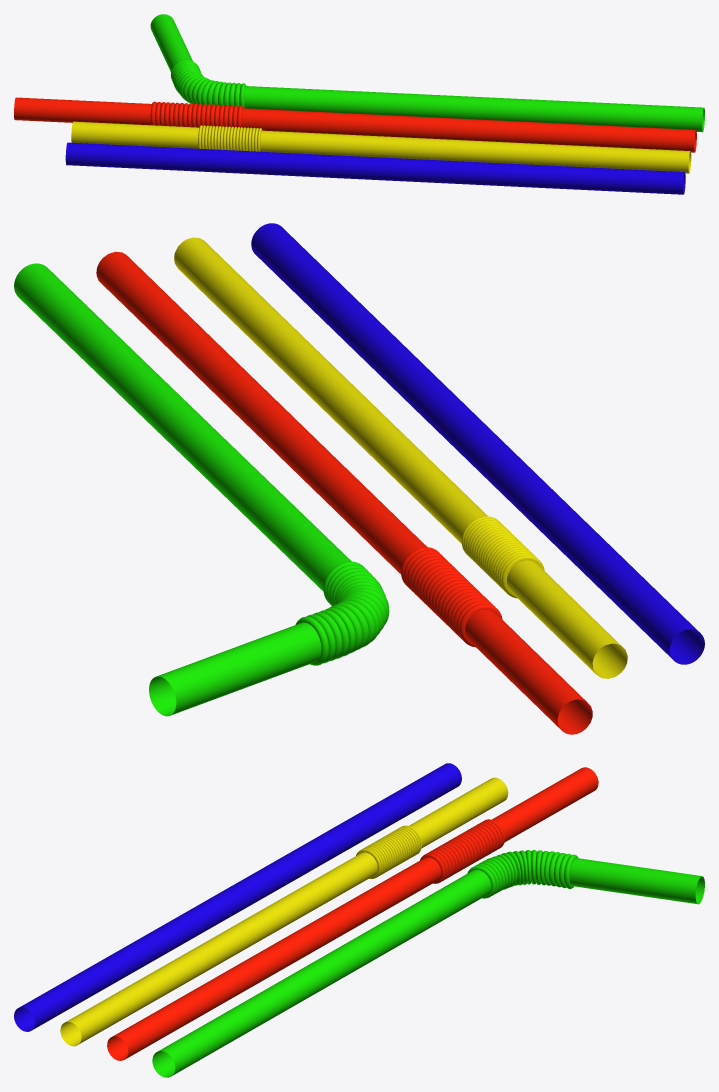
Rendered from Trinkhalm_LP.fbx.
3 views of the same model, one above another, from view 1: azimuth 30°, elevation 25°; view 2: azimuth 150°, elevation 25°; view 3: azimuth 270°, elevation 25° (orthographic). The views are drawn at different scales.
Parts seen in each view (by area): view 1: Halm_gerade_gestreckt, Halm_einfach, Halm_gebogen, Halm_gerade_zusammen; view 2: Halm_gebogen, Halm_gerade_gestreckt, Halm_gerade_zusammen, Halm_einfach; view 3: Halm_gebogen, Halm_gerade_gestreckt, Halm_gerade_zusammen, Halm_einfach.
Boxes of the visible parts, bbox=[...] form: Halm_gerade_gestreckt: bbox=[14, 97, 696, 152]; Halm_einfach: bbox=[65, 142, 685, 194]; Halm_gebogen: bbox=[150, 14, 704, 132]; Halm_gerade_zusammen: bbox=[71, 121, 691, 173]; Halm_gebogen: bbox=[14, 263, 389, 716]; Halm_gerade_gestreckt: bbox=[96, 251, 592, 734]; Halm_gerade_zusammen: bbox=[174, 237, 627, 678]; Halm_einfach: bbox=[251, 223, 704, 664]; Halm_gebogen: bbox=[152, 850, 704, 1077]; Halm_gerade_gestreckt: bbox=[107, 767, 598, 1060]; Halm_gerade_zusammen: bbox=[60, 777, 508, 1046]; Halm_einfach: bbox=[14, 763, 461, 1031].
Bounding box in the file's own units: 441 × 21.85 × 435.
